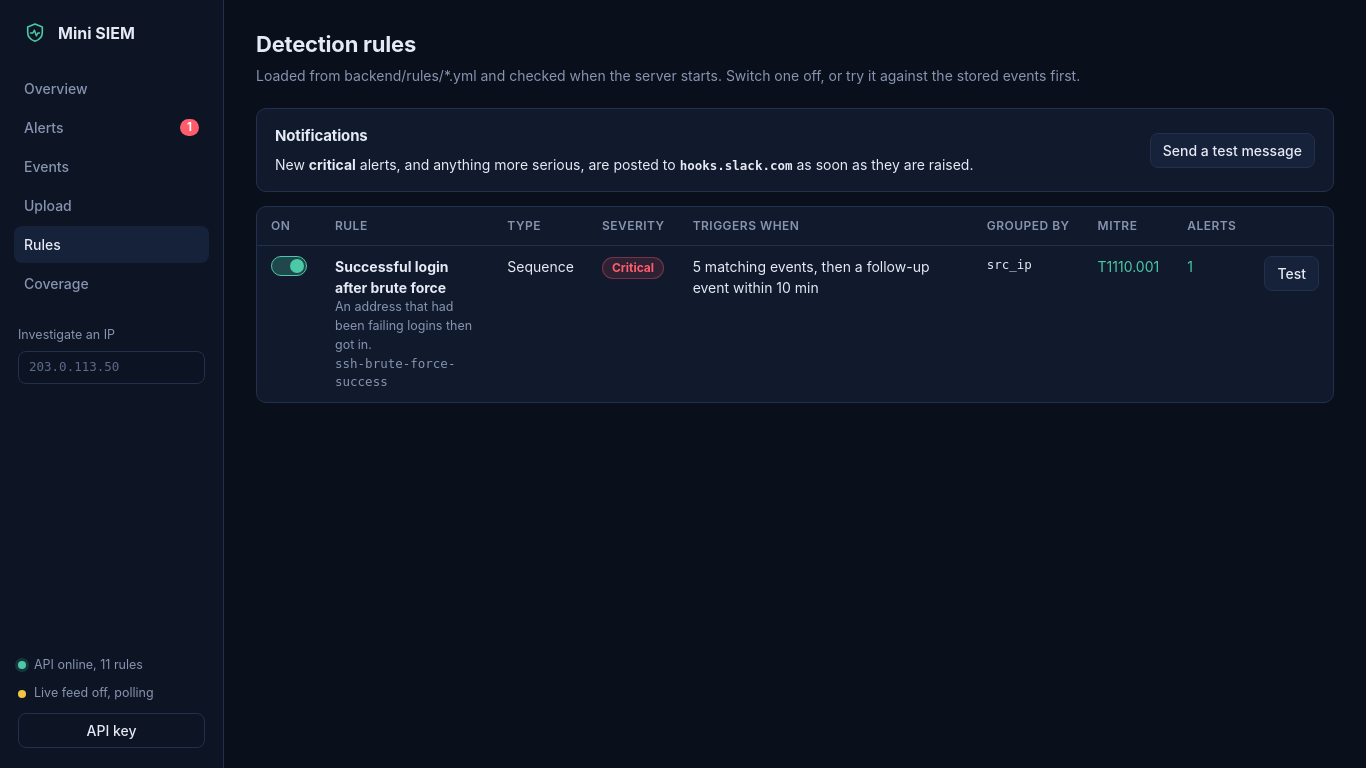
it: Rules: respond › reports a rule that could not be switched instead of pretending it worked
Click the switch named "Switch off" at {"x": 289, "y": 266}, box [271,256,307,276]
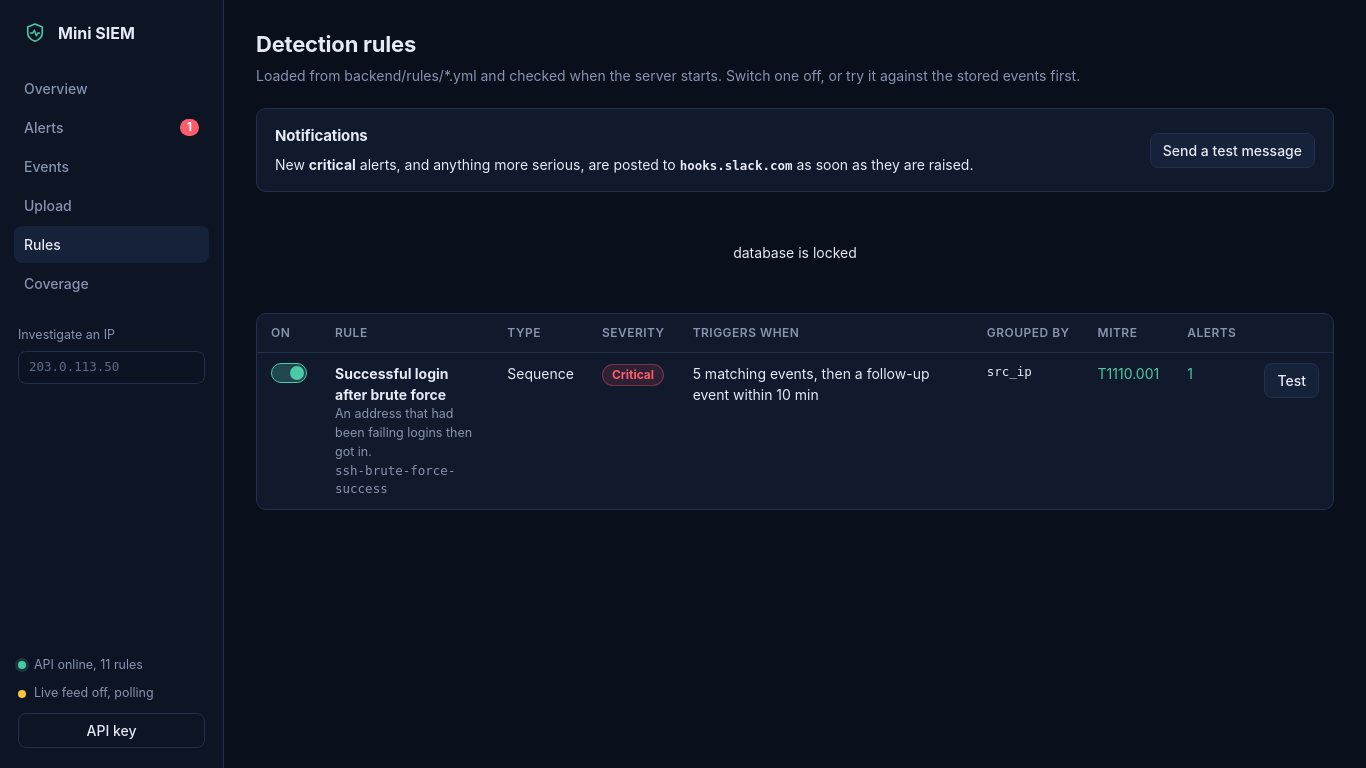
Check: the text "database is locked" is shown, box [733,244,857,261]
